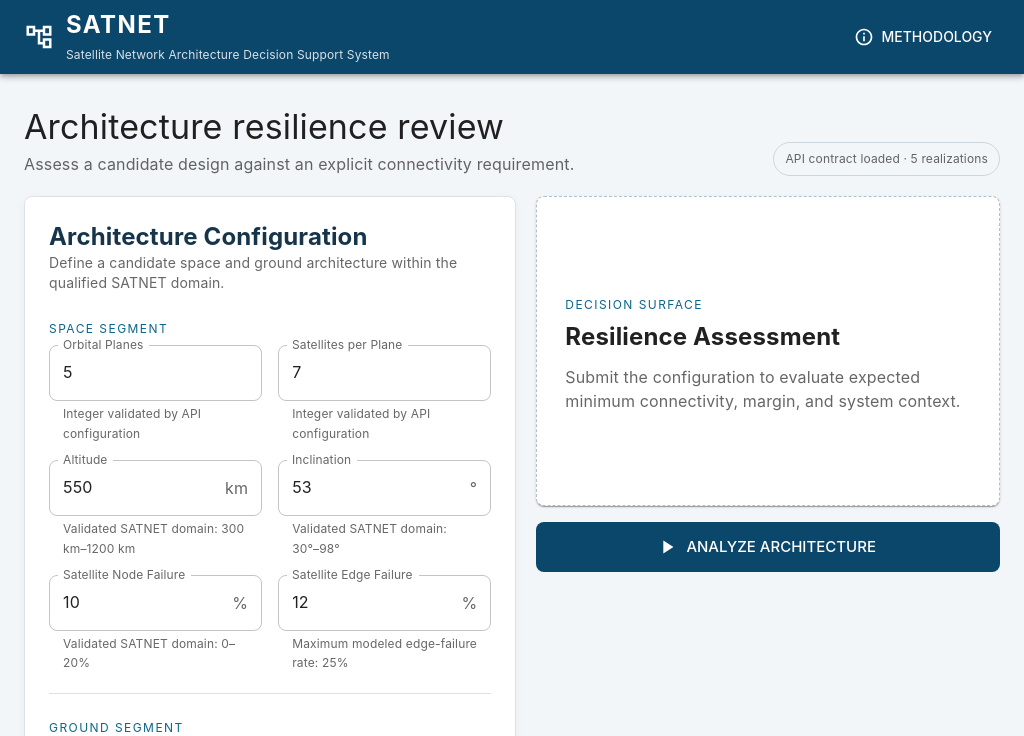
Test case: SATNET DSS UI › discloses the frozen synthetic research catalog in methodology
Expected: the button with test id "analyze-button" is enabled, [536,522,1000,572]
Click the button with aria-label "Read methodology, assumptions, and model limitations" at (925,37), box [850,19,1000,55]
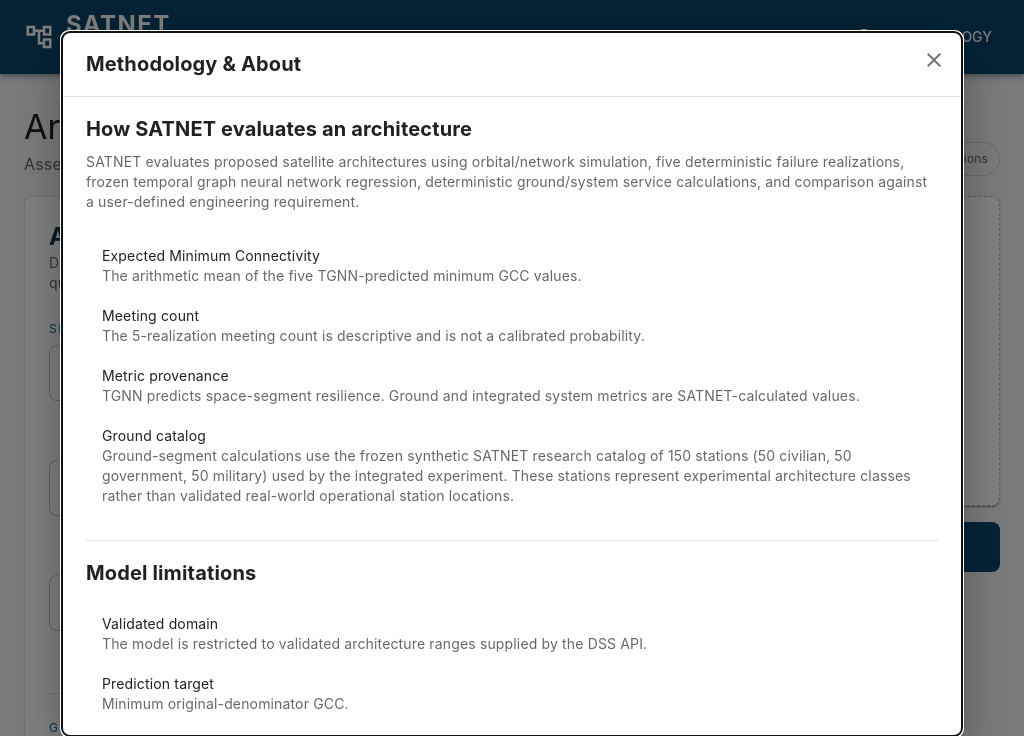
Expected: the text "rather than validated real-world operational station locations" is shown, [102,447,911,504]
